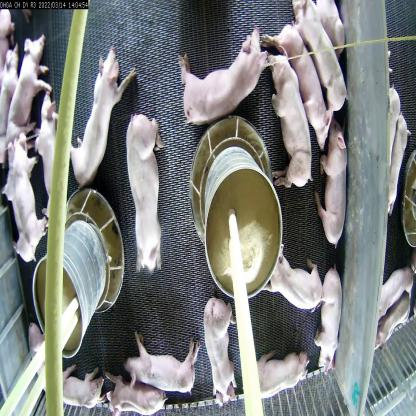Pig: (166, 26, 267, 121), (70, 47, 136, 189), (265, 18, 329, 149), (126, 114, 170, 272), (264, 46, 310, 186), (1, 136, 50, 266), (293, 0, 349, 111), (124, 329, 204, 398), (6, 34, 56, 143), (198, 294, 238, 409), (257, 242, 322, 311), (34, 88, 67, 210), (315, 127, 347, 250), (316, 263, 348, 382), (249, 350, 310, 399), (54, 361, 107, 416), (105, 371, 170, 415)
